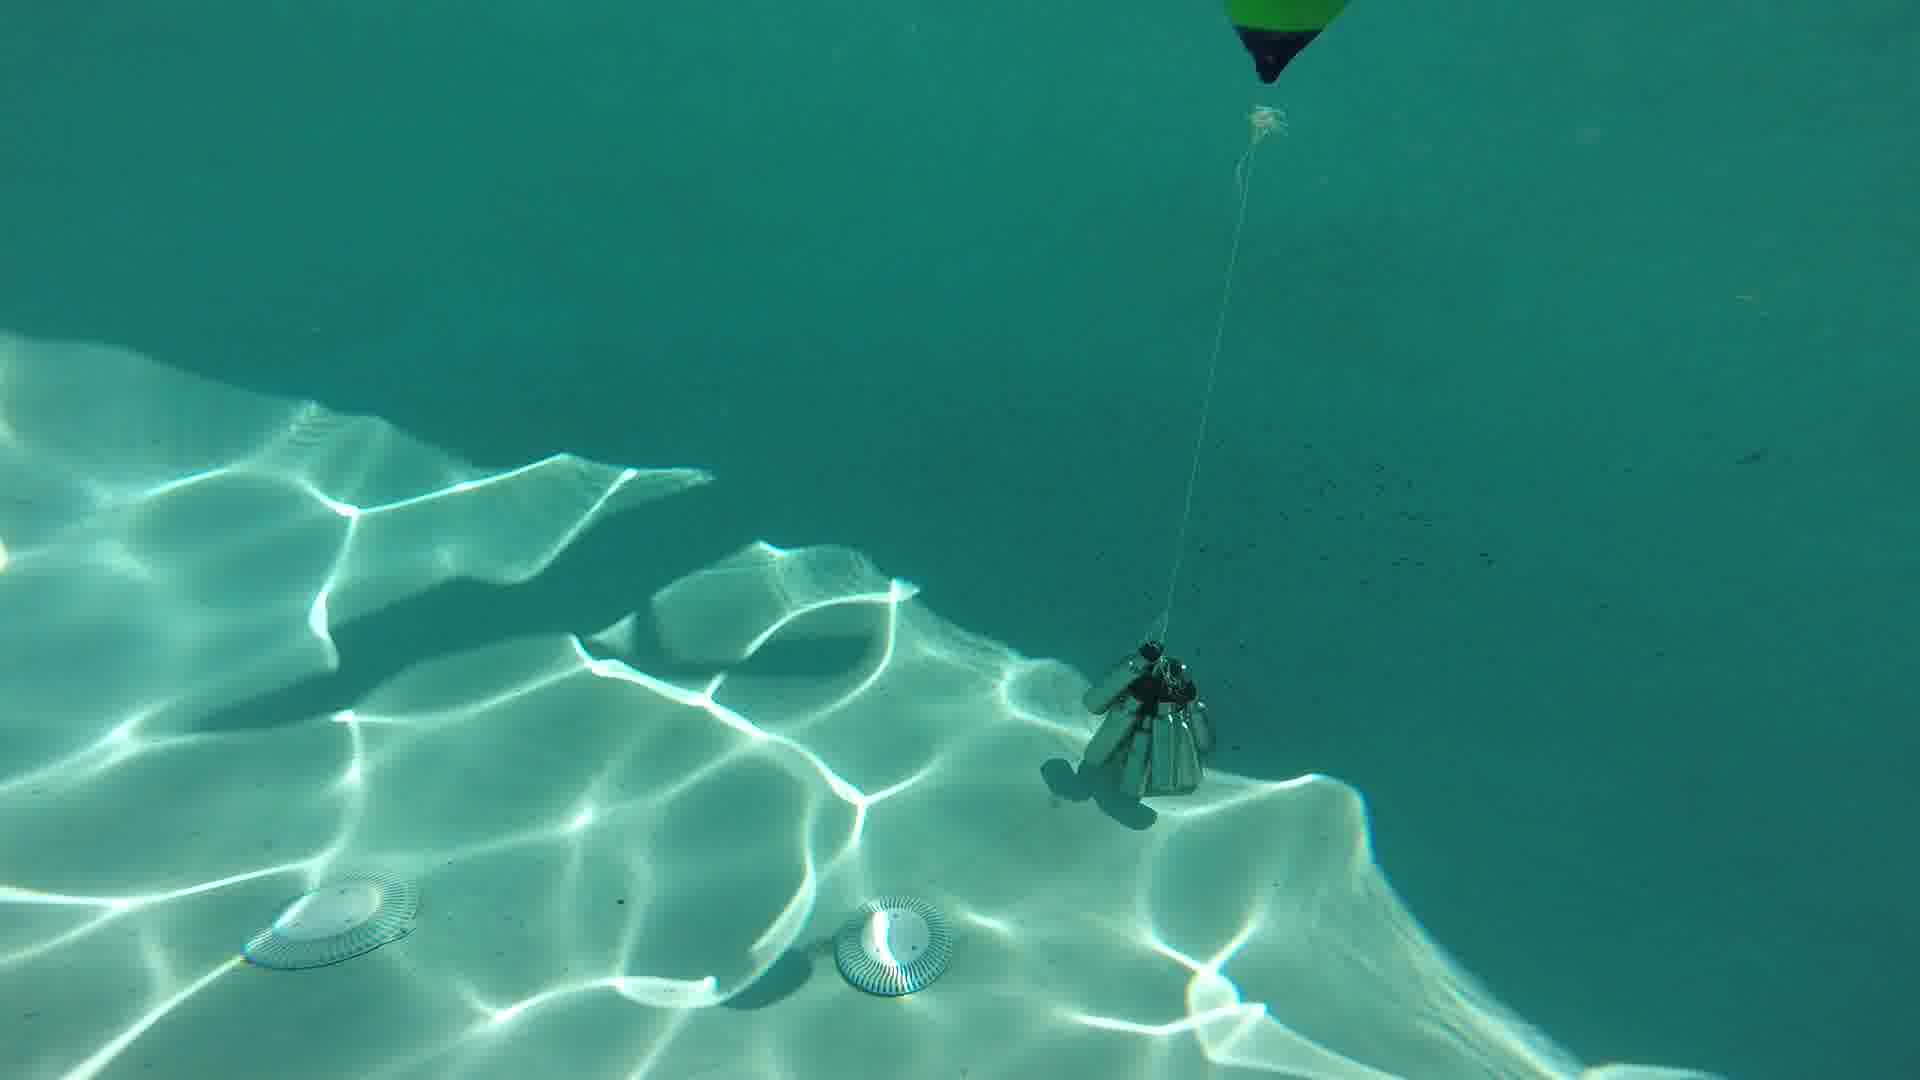yellow_buoy: (1222, 4, 1342, 136)
